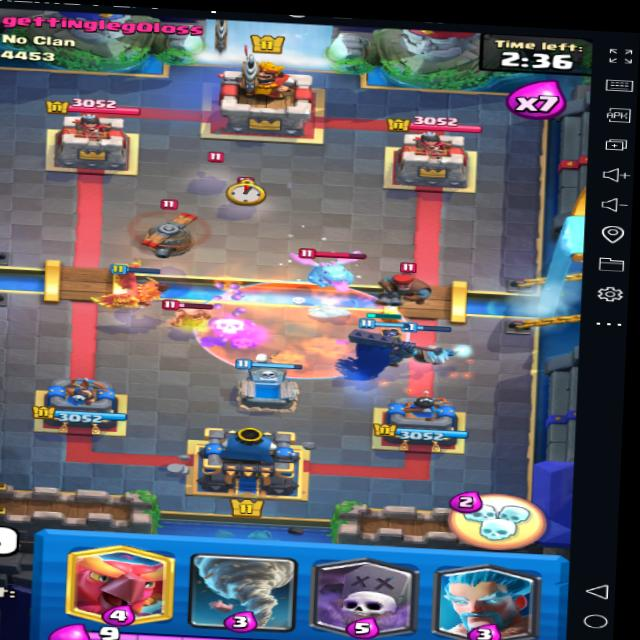baby-dragon: (286, 247, 376, 291)
flying-machine: (111, 198, 222, 263)
hunter: (373, 258, 448, 309)
mini-pekka: (149, 299, 211, 330)
